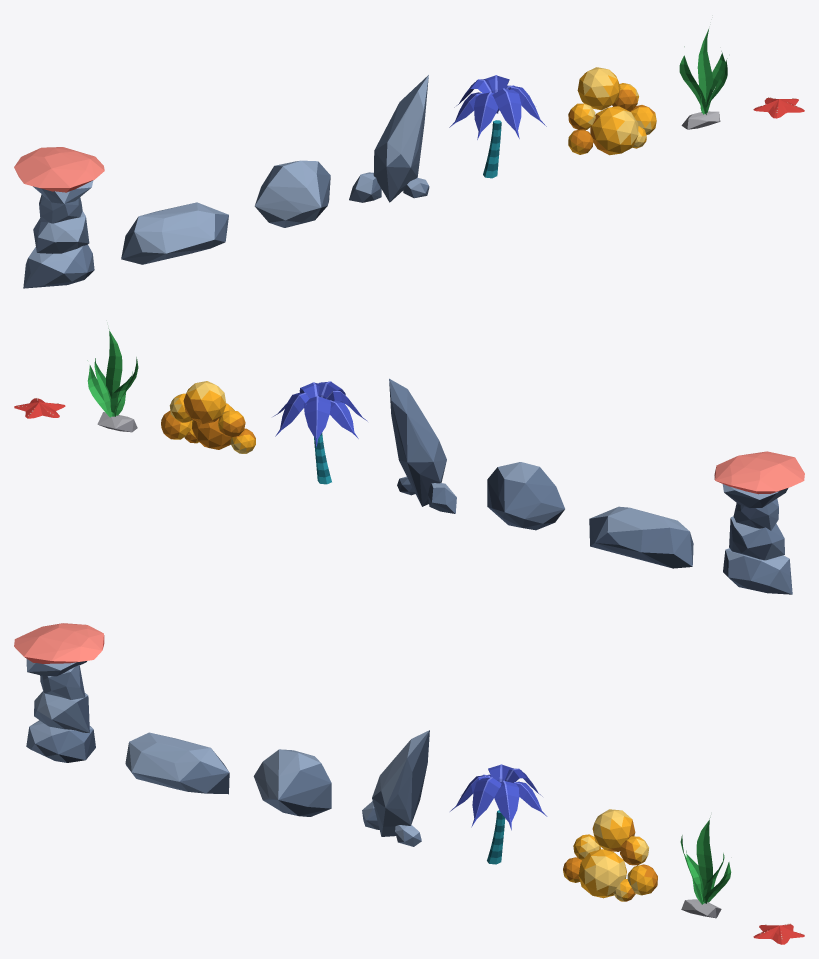
Rendered from MB_Kit_A.fbx.
The picture shows the model from 3 angles, top to bottom: view 1: azimuth 30°, elevation 25°; view 2: azimuth 150°, elevation 25°; view 3: azimuth 330°, elevation 25°; orthographic projection.
Visible parts, largest first — view 1: Mesa, BubbleCoral, Spire, Boulder_Flat, Boulder_Round, SeaPalm, Kelp, Starfish; view 2: Mesa, Spire, Boulder_Flat, BubbleCoral, Boulder_Round, SeaPalm, Kelp, Starfish; view 3: Mesa, BubbleCoral, Boulder_Flat, Spire, Boulder_Round, SeaPalm, Kelp, Starfish.
Part boxes in pixels (x1,y1,x2,y2): Mesa: (14, 147, 104, 288); BubbleCoral: (568, 67, 656, 155); Spire: (349, 75, 429, 202); Boulder_Flat: (121, 202, 228, 264); Boulder_Round: (254, 160, 330, 227); SeaPalm: (449, 75, 546, 178); Kelp: (679, 29, 727, 129); Starfish: (753, 97, 804, 118); Mesa: (714, 451, 804, 594); Spire: (389, 378, 456, 513); Boulder_Flat: (589, 506, 693, 568); BubbleCoral: (161, 381, 255, 453); Boulder_Round: (487, 462, 564, 530); SeaPalm: (273, 381, 367, 484); Kelp: (87, 328, 138, 432); Starfish: (14, 398, 65, 418); Mesa: (14, 623, 104, 762); BubbleCoral: (563, 809, 657, 901); Boulder_Flat: (125, 732, 229, 794); Spire: (362, 730, 429, 846); Boulder_Round: (253, 749, 331, 816); SeaPalm: (450, 764, 547, 864); Kelp: (680, 817, 731, 918); Starfish: (753, 923, 804, 944).
Bounding box in the file's own units: 9494 × 1414 × 1032.
Materials: 1 (1 with a texture image).
